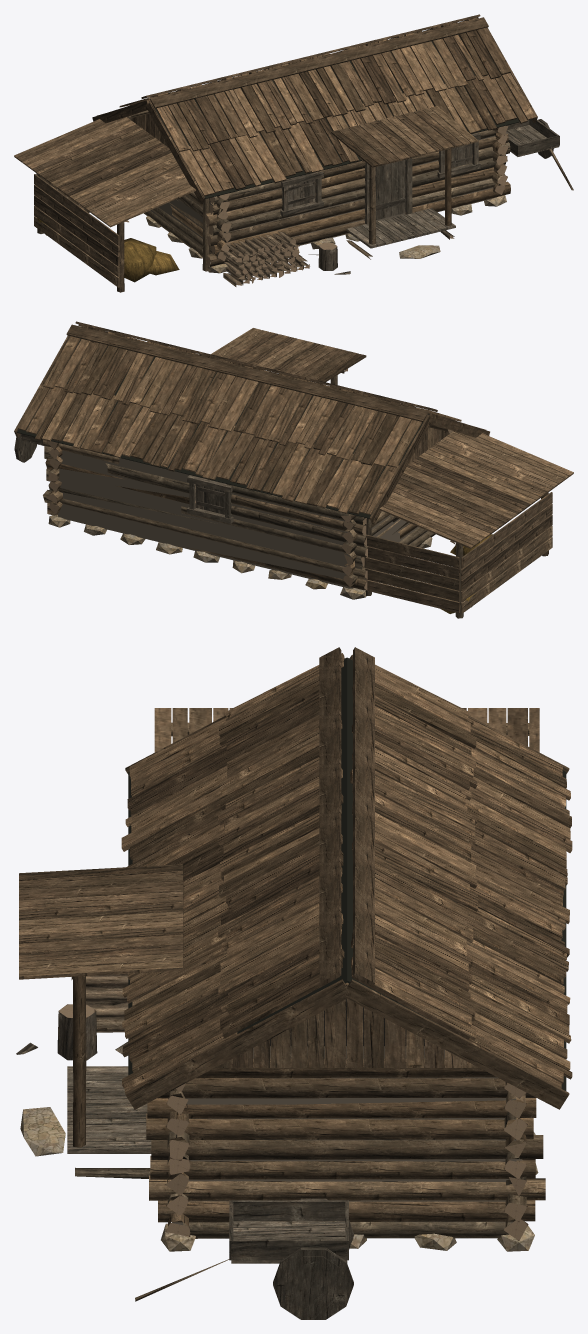
Rendered from house-w4-lite.glb.
The picture shows the model from 3 angles, top to bottom: view 1: azimuth 30°, elevation 25°; view 2: azimuth 150°, elevation 25°; view 3: azimuth 270°, elevation 25°; orthographic projection. The views are drawn at different scales.
Parts seen in each view (by area): view 1: Body, Door; view 2: Body; view 3: Body.
Part boxes in pixels (box(x1,y1,x2,y2)): Body: box(14, 14, 573, 292); Door: box(375, 160, 405, 219); Body: box(14, 321, 573, 618); Body: box(16, 647, 572, 1319).
Size of the model in its own units: 11.34 by 3.54 by 5.77.
Materials: 4 (3 with a texture image).
